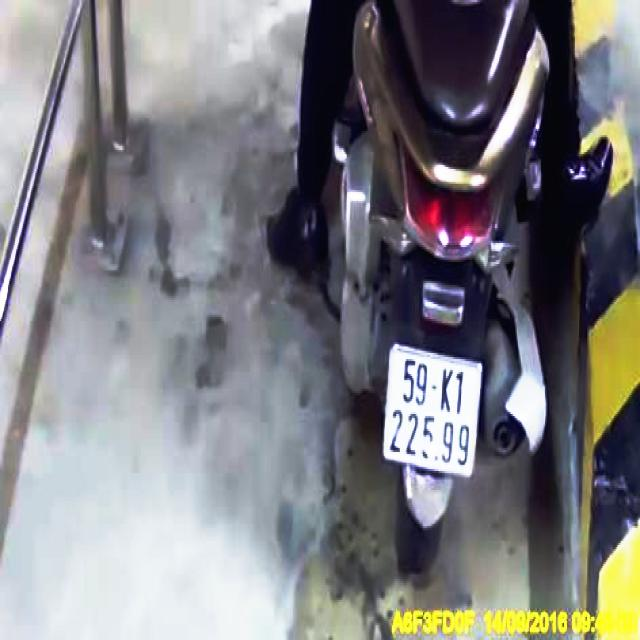license_plate: (384, 345, 484, 475)
